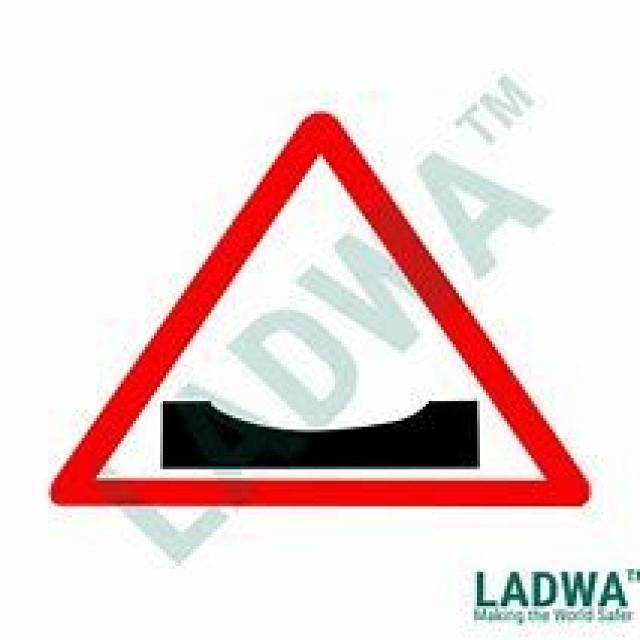DANGEROUS_DIP: (43, 107, 598, 513)
